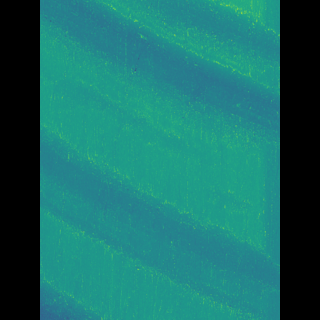Loch: (69, 110, 251, 319), (69, 0, 250, 149)
